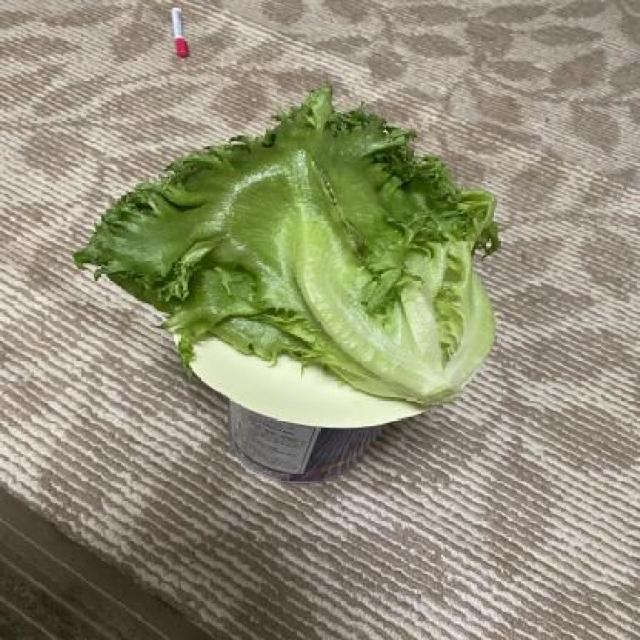Lettuce head: (70, 74, 512, 414)
